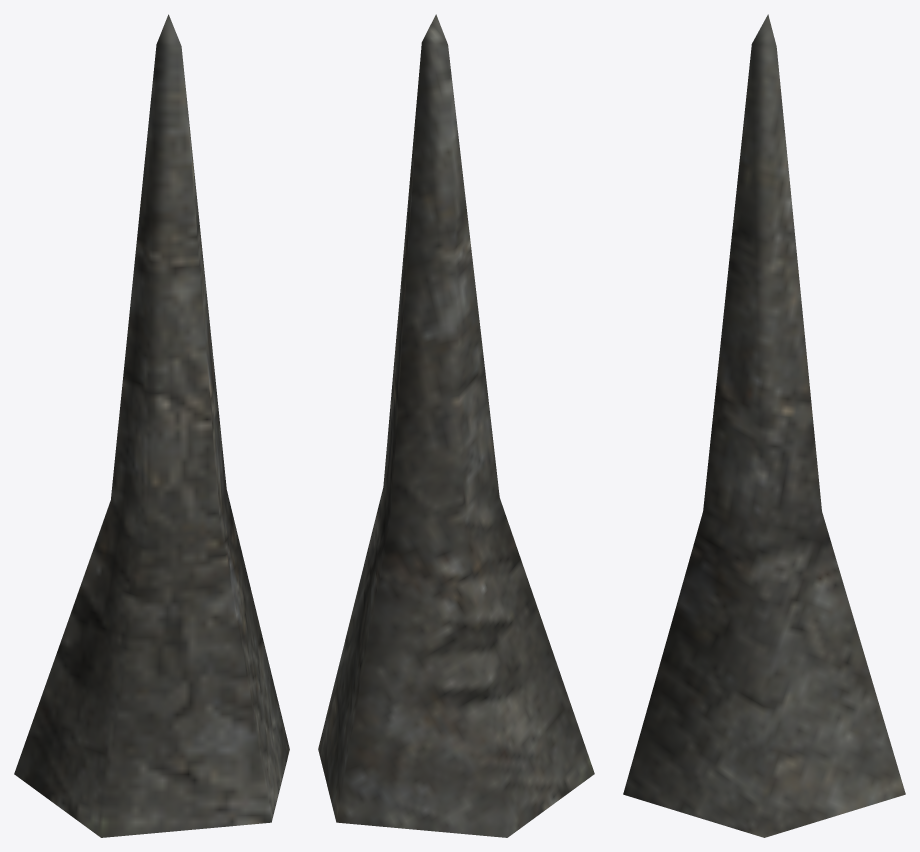
File: Stal7_LOD1.fbx
3 renders of one model, left to right at view 1: azimuth 30°, elevation 25°; view 2: azimuth 150°, elevation 25°; view 3: azimuth 270°, elevation 25°, orthographic.
Visible parts, largest first — view 1: pCylinder25; view 2: pCylinder25; view 3: pCylinder25.
Part boxes in pixels (<box>): pCylinder25: <box>14,14,289,837</box>; pCylinder25: <box>318,14,594,837</box>; pCylinder25: <box>623,14,905,837</box>.
Bounding box in the file's own units: 0.8699 × 2.73 × 0.9147.
